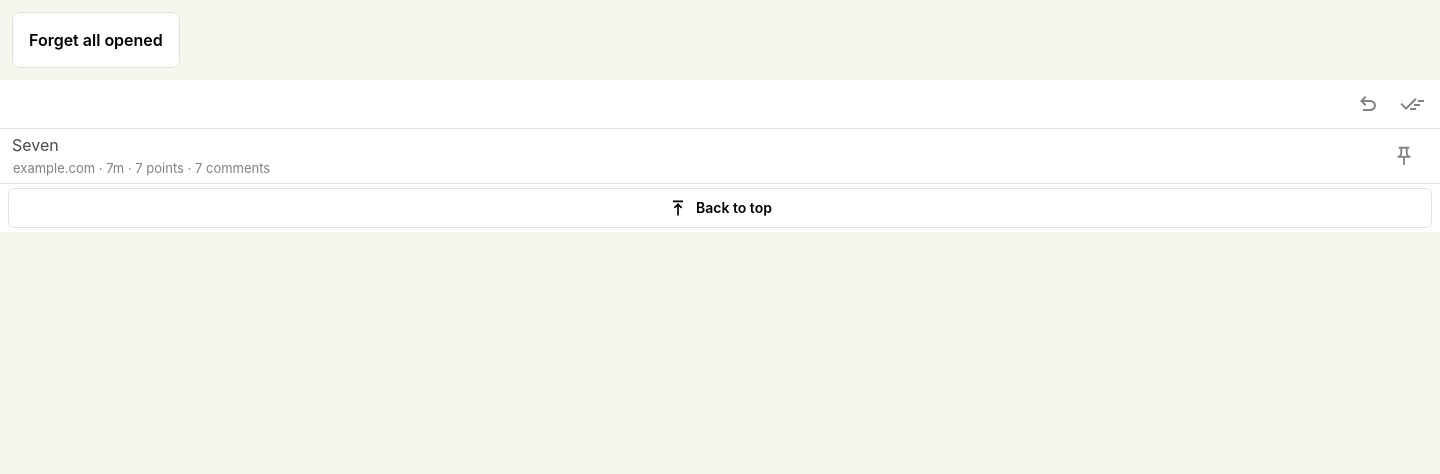
Test: <OpenedPage> › long-press Mark unread removes a story from /opened
Later steps or results of the test are not shown.
Expected: the text "Seven" is shown, [12,135,59,155]
Press the mouse on the element with test id "story-row" at (720, 156), box [0,129,1439,183]
Wait 600 ms
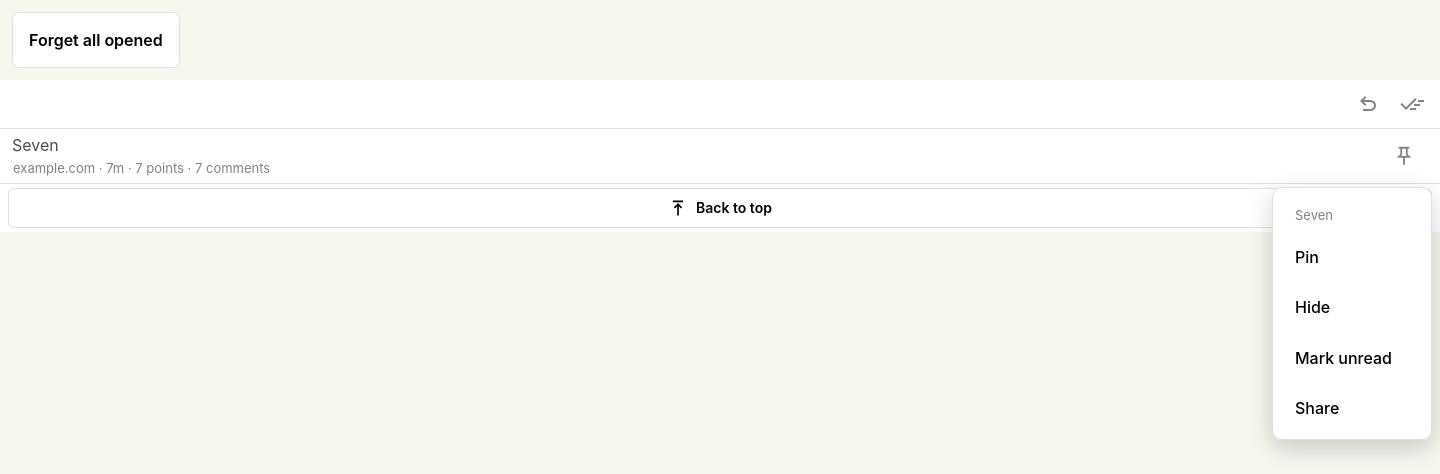
Result: the menu item with test id "story-row-menu-mark-unread" reads "Mark unread" at [1279,333,1425,383]
